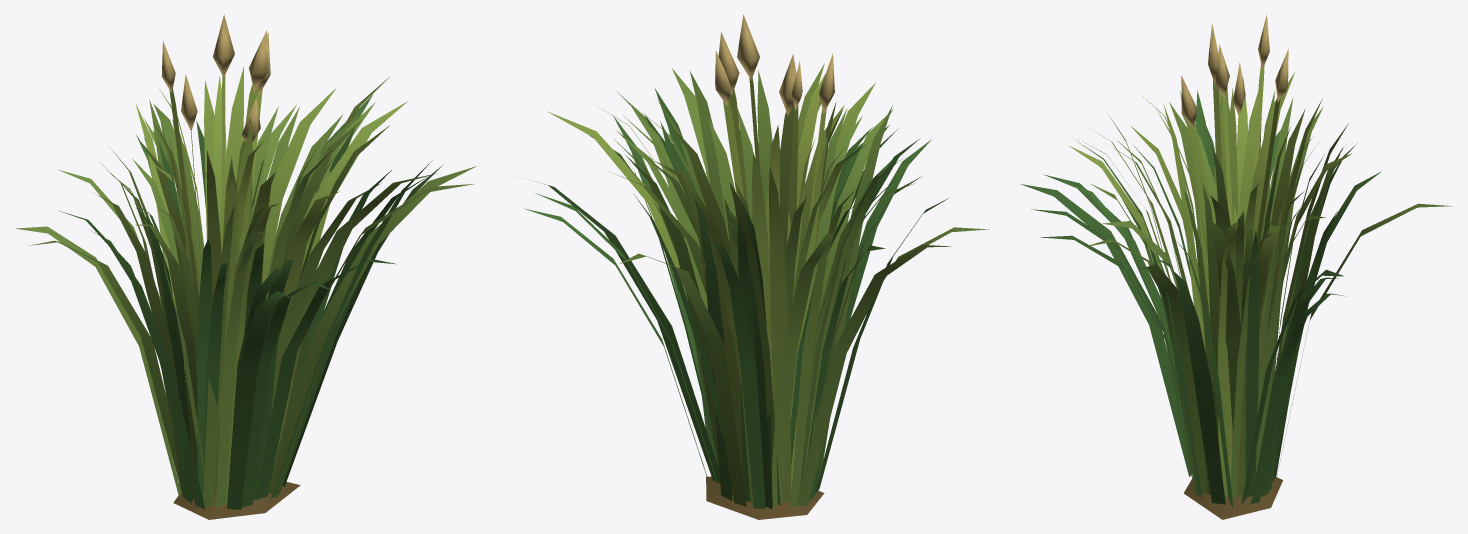
The model's file is tall_grass_2.glb.
3 views of the same model, side by side, from view 1: azimuth 30°, elevation 25°; view 2: azimuth 150°, elevation 25°; view 3: azimuth 270°, elevation 25° (orthographic). The views are drawn at different scales.
Visible parts, largest first — view 1: tall_grass_2; view 2: tall_grass_2; view 3: tall_grass_2.
Part boxes in pixels (left/top/right/bottom): tall_grass_2: left=16, top=14, right=476, bottom=519; tall_grass_2: left=524, top=14, right=989, bottom=519; tall_grass_2: left=1020, top=14, right=1452, bottom=519.
Bounding box in the file's own units: 1.3 × 1.4 × 1.2.
2 materials, 2 textured.
